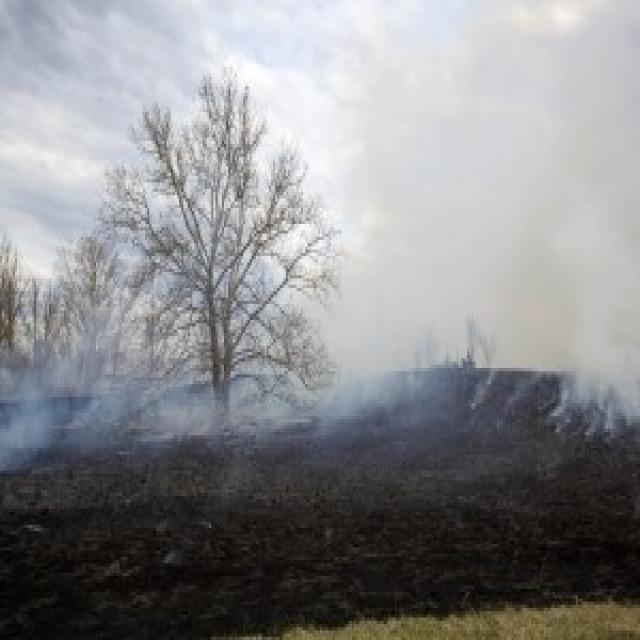Smoke: (17, 218, 416, 472), (512, 214, 640, 434)
